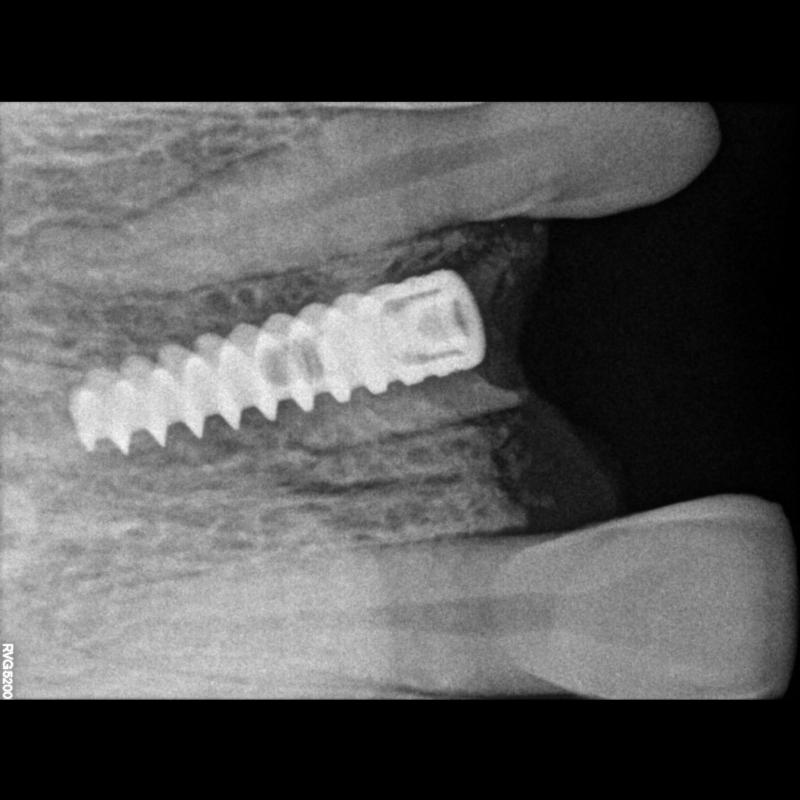ADIN: (60, 253, 502, 467)
